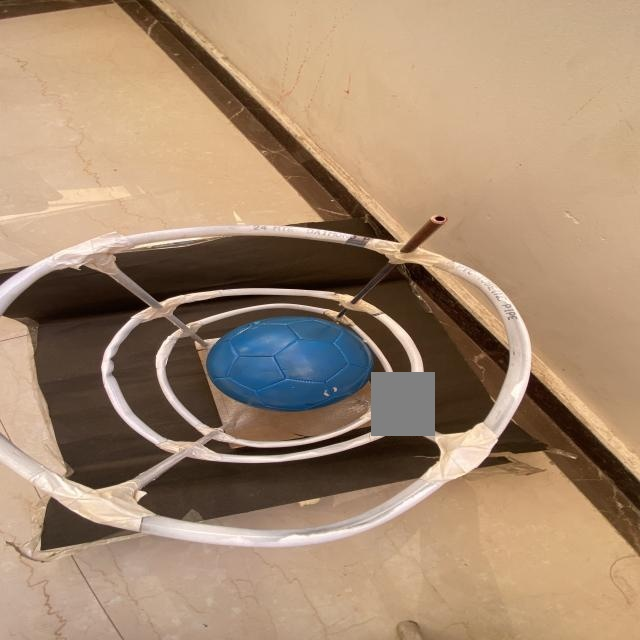blue_ball: (178, 310, 384, 428)
silo: (0, 213, 543, 553)
